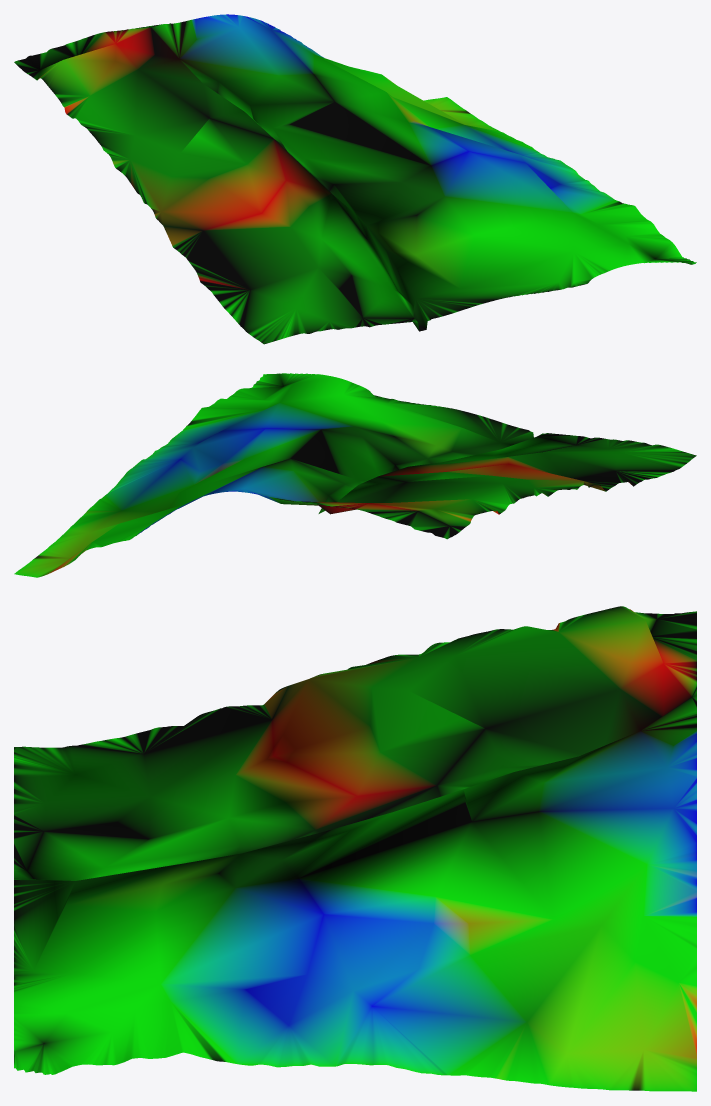
File: N_2_3_anel.glb
3 renders of one model, top to bottom at view 1: azimuth 30°, elevation 25°; view 2: azimuth 150°, elevation 25°; view 3: azimuth 270°, elevation 25°, orthographic. The views are drawn at different scales.
Visible parts, largest first — view 1: N_2_3; view 2: N_2_3; view 3: N_2_3.
Boxes of the visible parts, x1,y1,x2,y2 form: N_2_3: (14,14,696,344); N_2_3: (14,373,696,577); N_2_3: (14,606,696,1091).
Size of the model in its own units: 256 by 84.34 by 256.
